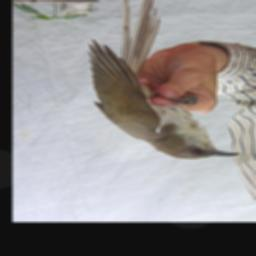Cuckoo: (90, 0, 241, 161)
